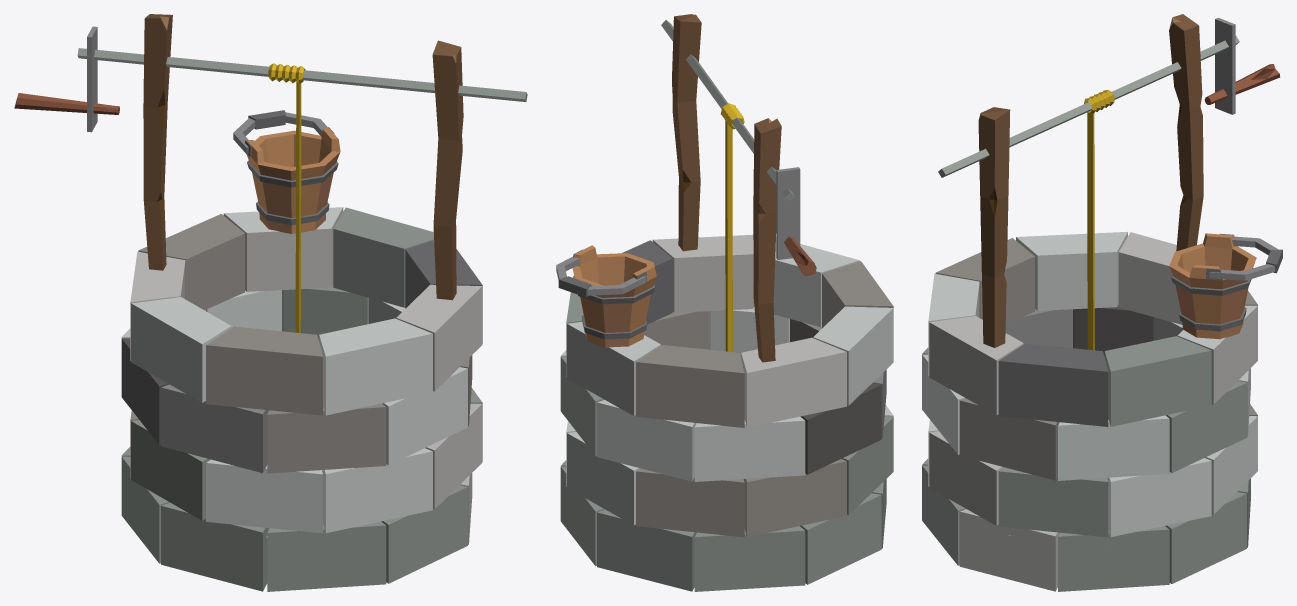
The model's file is Well_01.glb.
3 renders of one model, left to right at view 1: azimuth 30°, elevation 25°; view 2: azimuth 150°, elevation 25°; view 3: azimuth 270°, elevation 25°, orthographic. The views are drawn at different scales.
Parts seen in each view (by area): view 1: Well_01; view 2: Well_01; view 3: Well_01.
Boxes of the visible parts, <box> form: Well_01: <box>14,14,527,591</box>; Well_01: <box>556,14,893,591</box>; Well_01: <box>922,14,1282,591</box>.
Size of what is drawn, in the model's own units: 1.8 by 2.43 by 1.73.
1 material, 1 textured.
